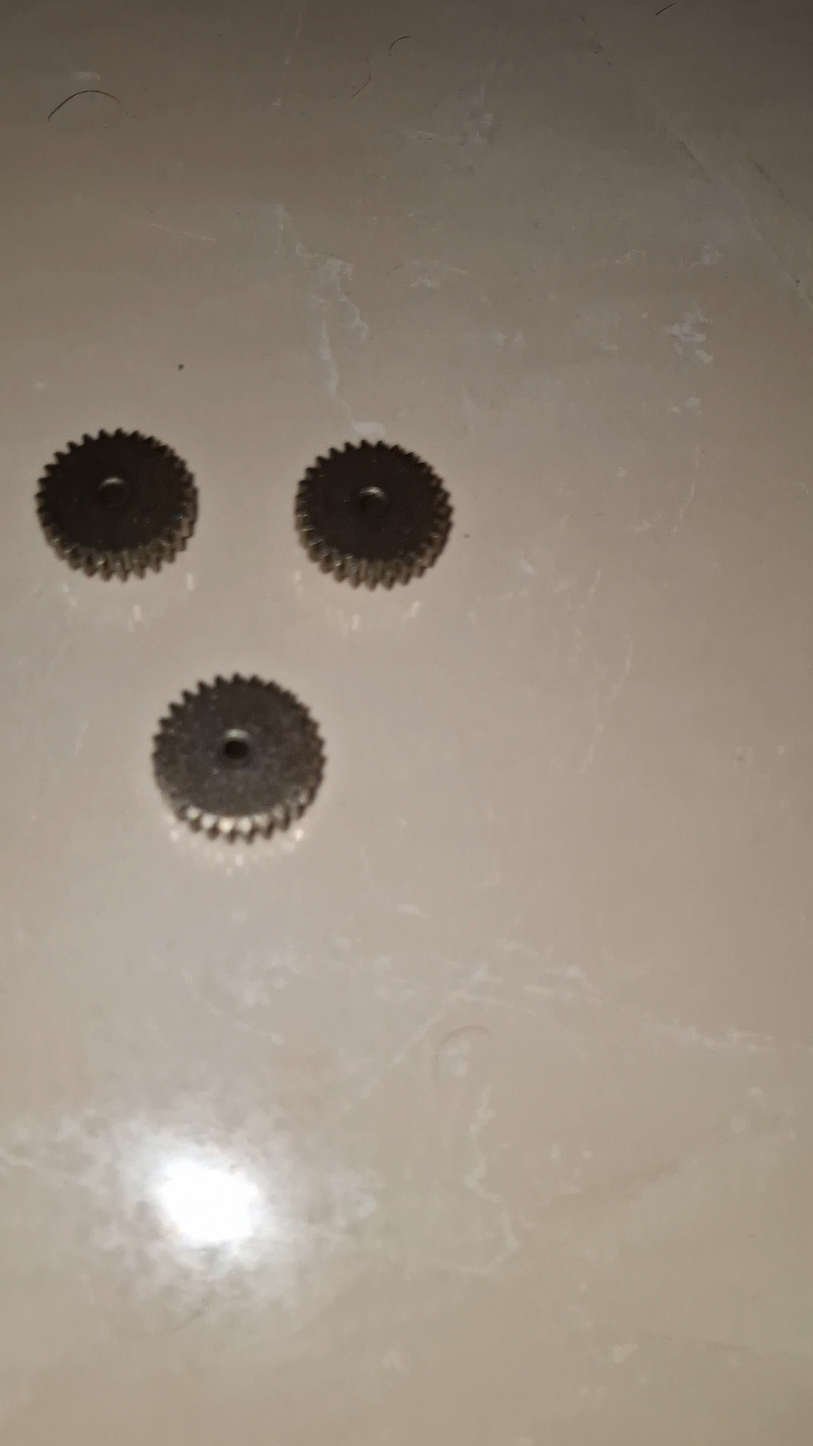spur gear: (153, 675, 324, 839), (37, 430, 197, 578), (295, 441, 452, 588)
